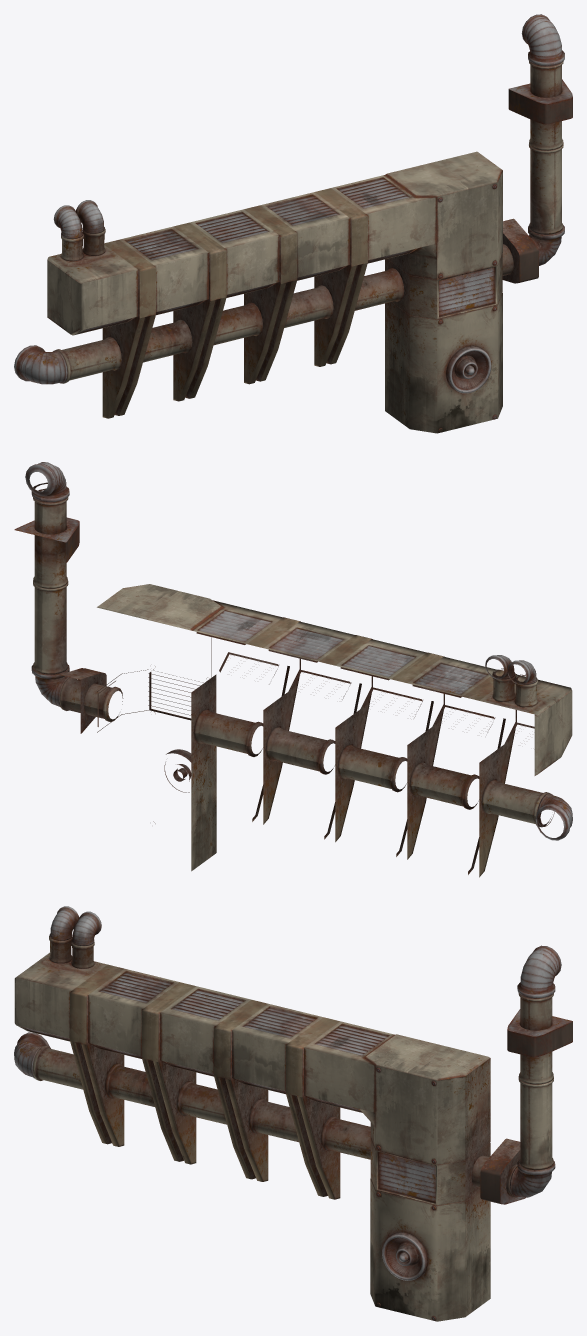
Rendered from wall_vents_a.glb.
The picture shows the model from 3 angles, top to bottom: view 1: azimuth 30°, elevation 25°; view 2: azimuth 150°, elevation 25°; view 3: azimuth 330°, elevation 25°; orthographic projection.
Parts seen in each view (by area): view 1: SM_WallVentsA; view 2: SM_WallVentsA; view 3: SM_WallVentsA.
Boxes of the visible parts, left/top/right/bottom form: SM_WallVentsA: left=14, top=14, right=572, bottom=433; SM_WallVentsA: left=14, top=462, right=572, bottom=877; SM_WallVentsA: left=14, top=906, right=572, bottom=1321.
Bounding box in the file's own units: 11.92 × 7.55 × 1.61.
1 material, 1 textured.
